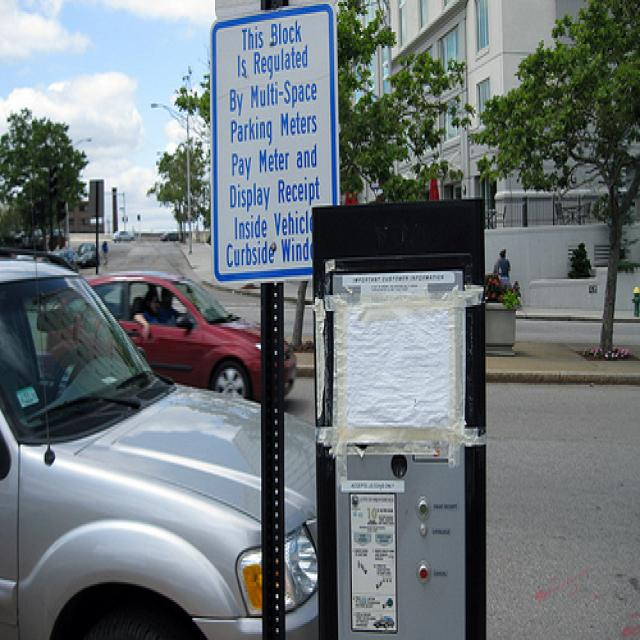Vehicle: (0, 247, 320, 640), (4, 252, 332, 632), (81, 270, 300, 407), (75, 243, 100, 268), (111, 230, 135, 243)
